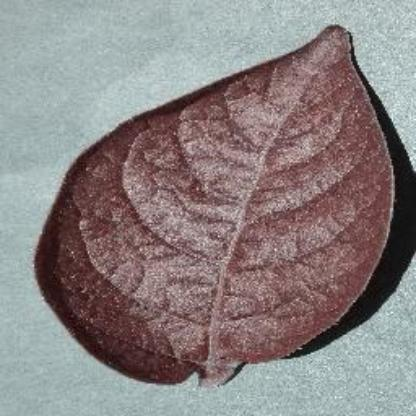Healthy-plant: (28, 23, 395, 396)
